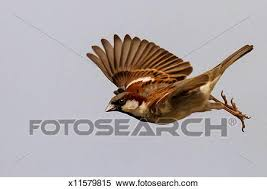hsparrow: (83, 33, 257, 134)
